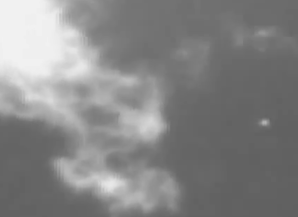Target: (261, 119, 268, 125)
